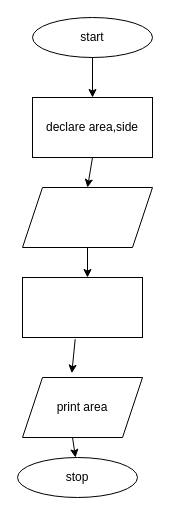
Some shapes in this 170 by 515 pixel diagram are drawn without their labels. Each missing label, with the centre of its shape:
perform area=side* side: the point at 82,307
read the values into side,side: the point at 87,217
